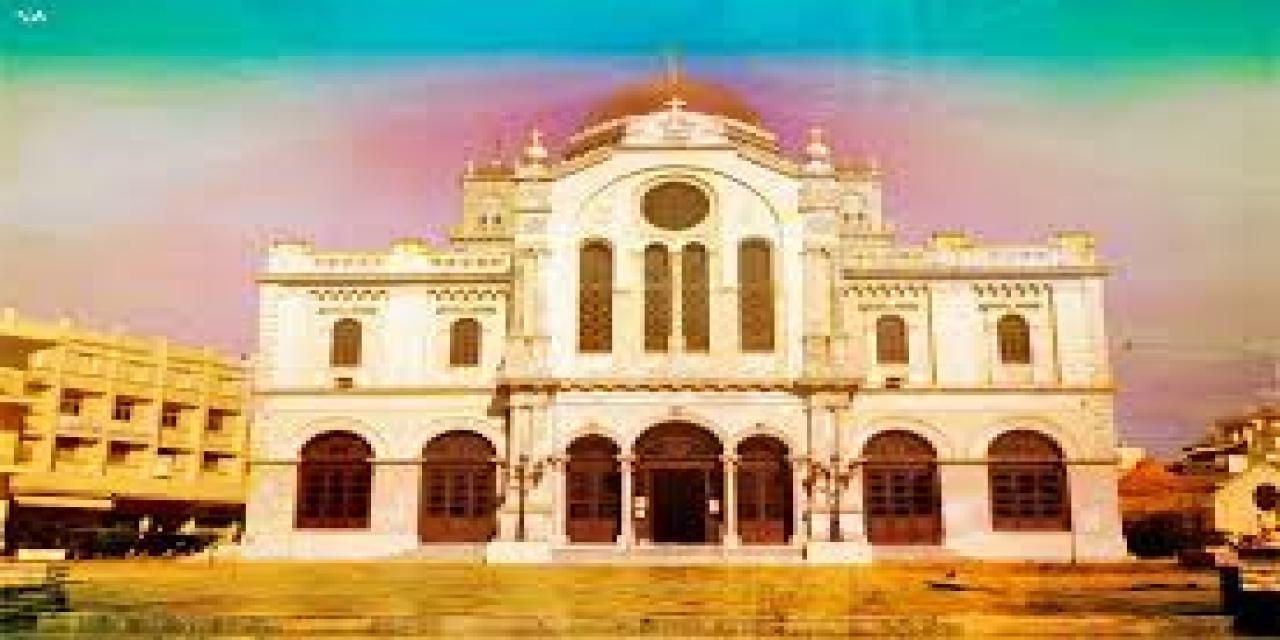Agios Minas: (227, 39, 1138, 560)
